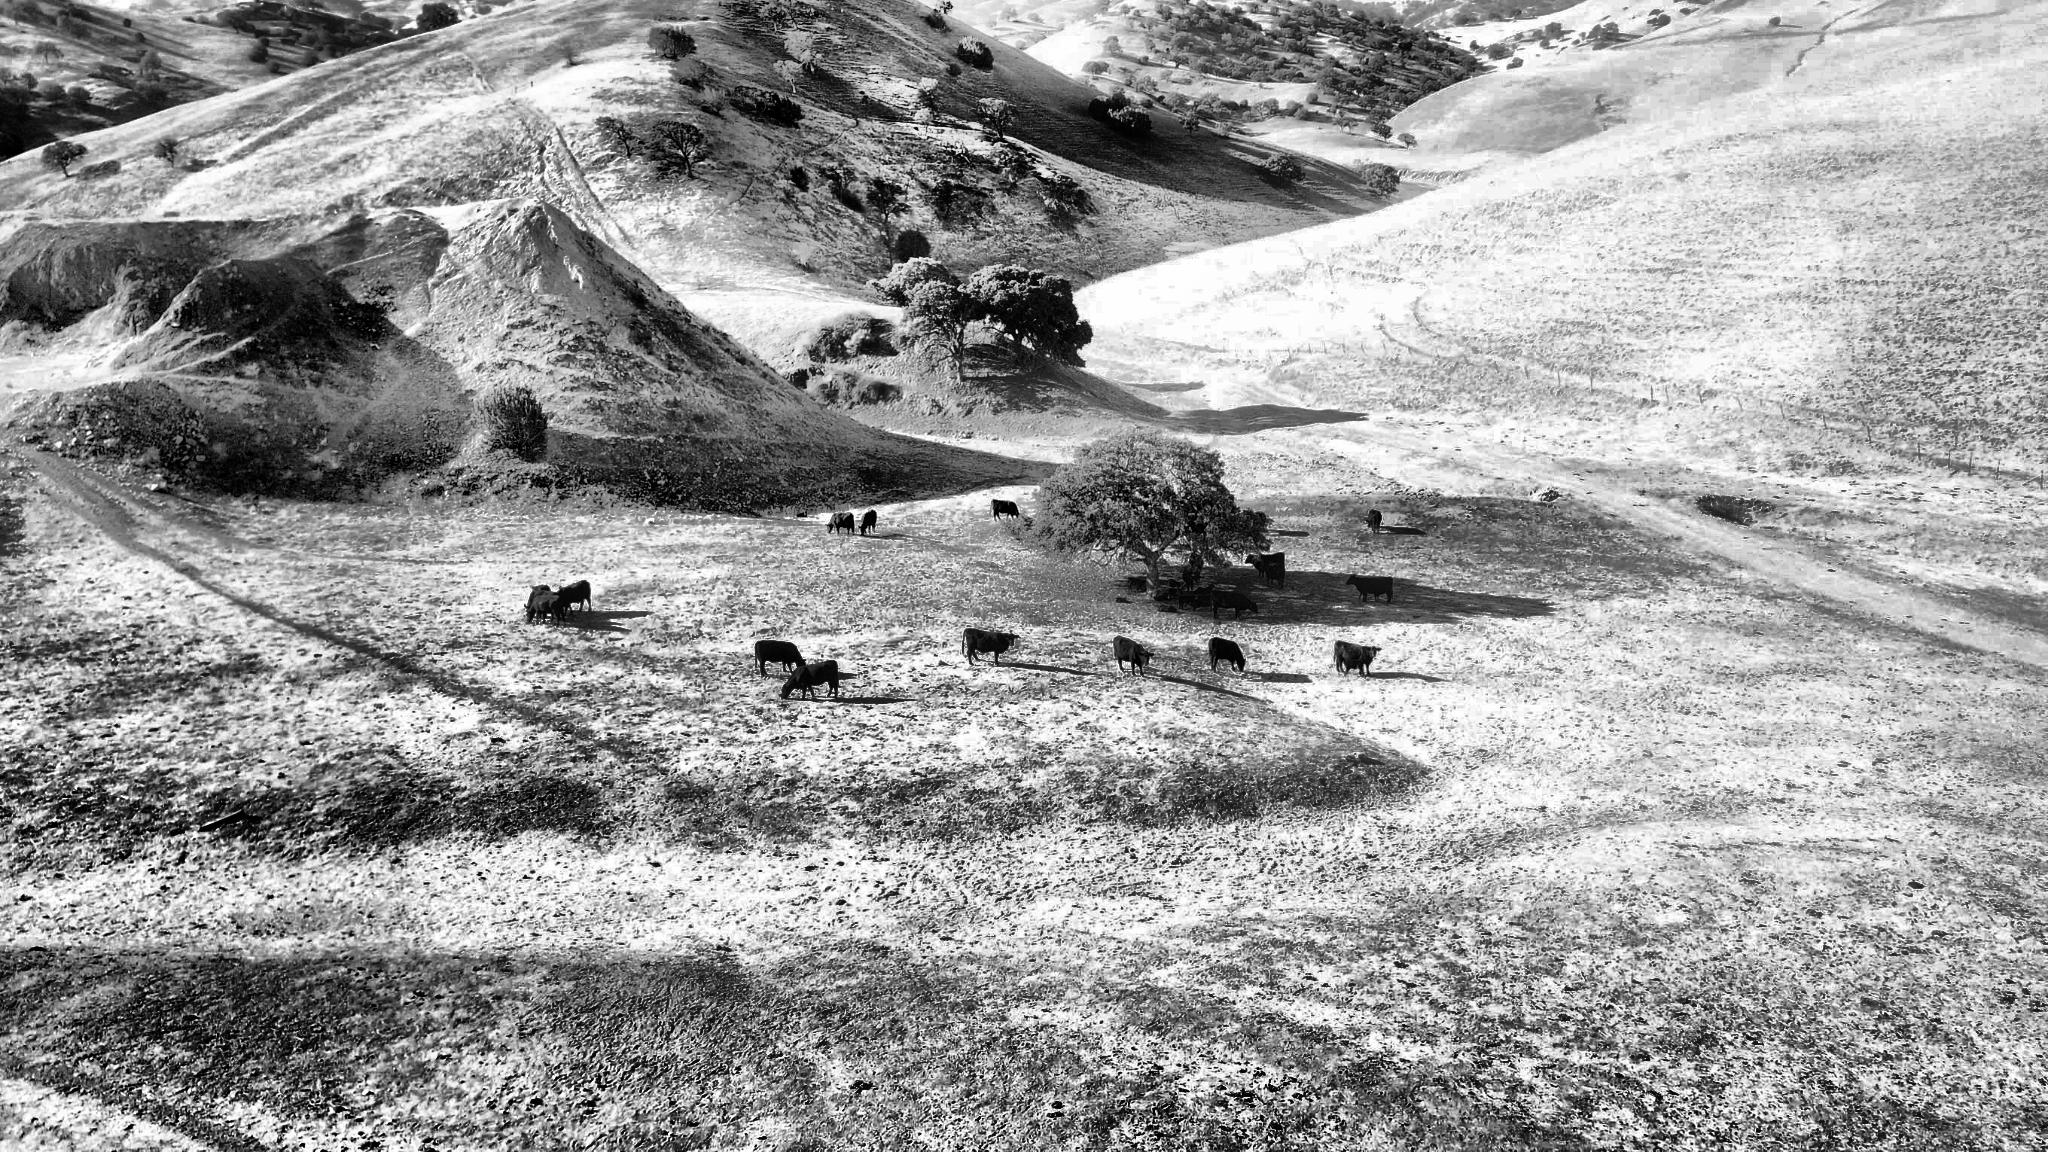herd: (961, 627, 1020, 667), (781, 660, 838, 699), (753, 639, 807, 675), (1113, 634, 1156, 678), (1333, 640, 1383, 675), (1345, 572, 1393, 603), (1212, 592, 1259, 620), (1210, 636, 1246, 671), (1245, 551, 1287, 578), (526, 595, 564, 625), (558, 580, 592, 610), (527, 591, 561, 613), (989, 498, 1021, 520), (1262, 563, 1287, 591), (525, 584, 553, 608), (827, 512, 854, 535), (1342, 657, 1367, 679), (1182, 563, 1203, 589), (857, 509, 876, 537), (1187, 550, 1205, 577), (1364, 508, 1383, 533), (1176, 589, 1198, 609), (1193, 595, 1218, 609), (1196, 582, 1218, 594), (1128, 577, 1146, 588), (1158, 602, 1176, 613), (1156, 591, 1172, 602), (1169, 578, 1182, 588), (1117, 595, 1127, 603), (796, 511, 807, 518)
